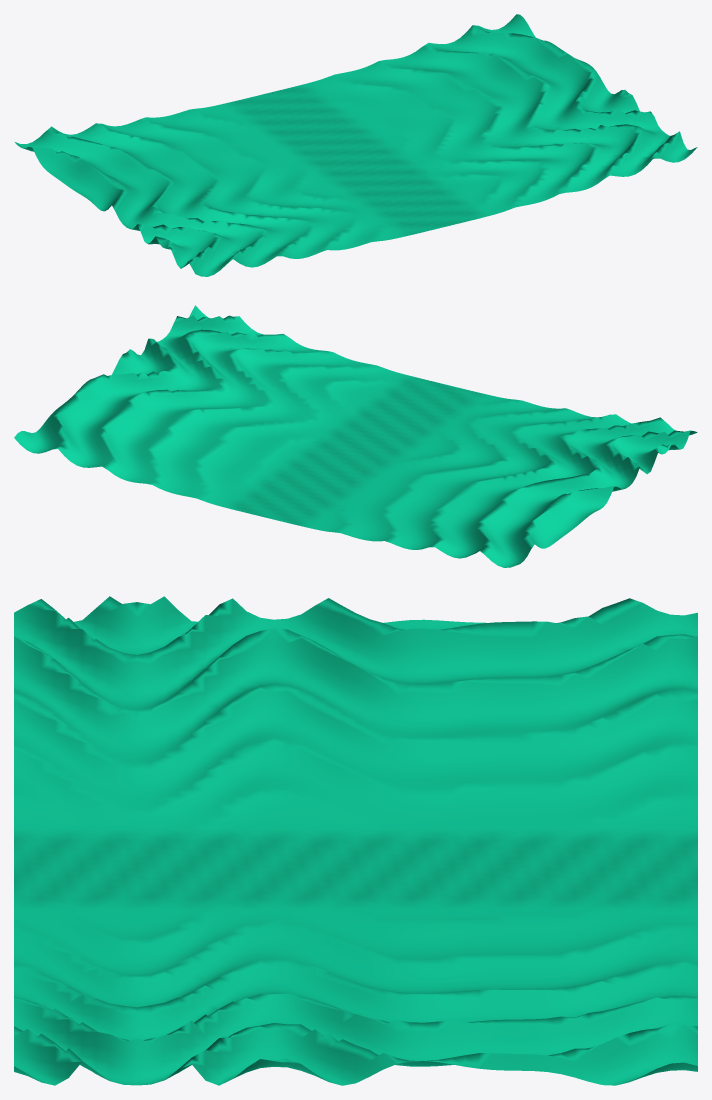
The model's file is world-terrain-desert.glb.
3 views of the same model, one above another, from view 1: azimuth 30°, elevation 25°; view 2: azimuth 150°, elevation 25°; view 3: azimuth 270°, elevation 25° (orthographic). The views are drawn at different scales.
Parts seen in each view (by area): view 1: root_mesh; view 2: root_mesh; view 3: root_mesh.
Part boxes in pixels (<box>): root_mesh: <box>14,14,697,276</box>; root_mesh: <box>14,305,697,567</box>; root_mesh: <box>14,596,697,1085</box>.
Size of the model in its own units: 160 by 6.84 by 100.
